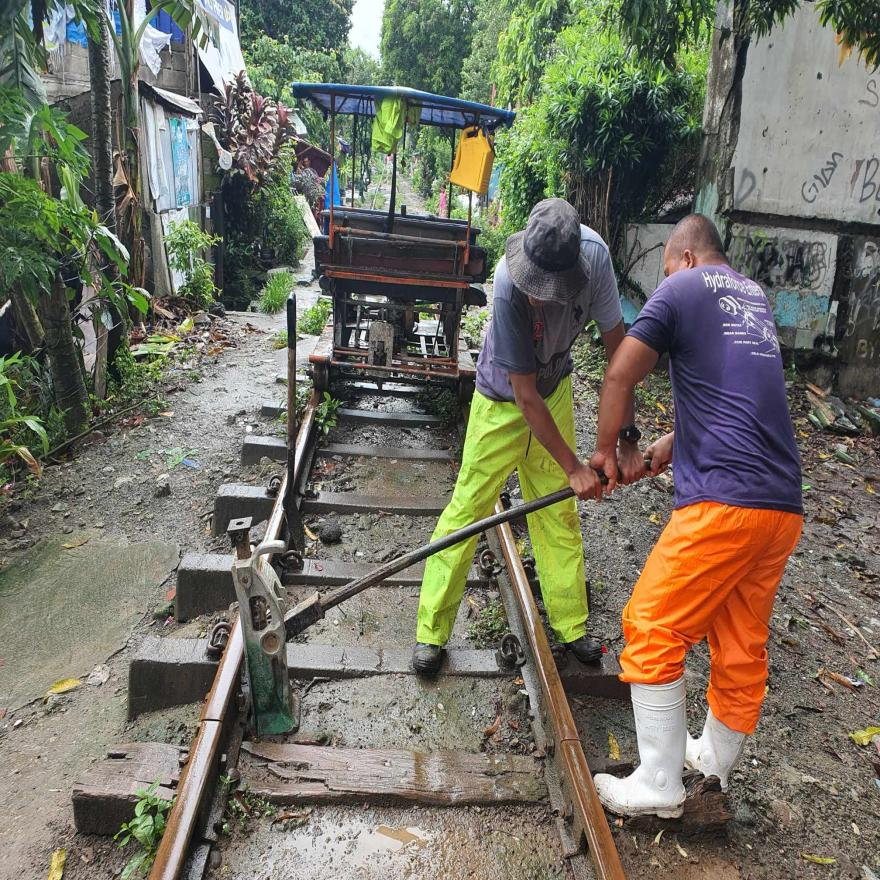railway-gap: (187, 686, 240, 754), (546, 715, 591, 772)
